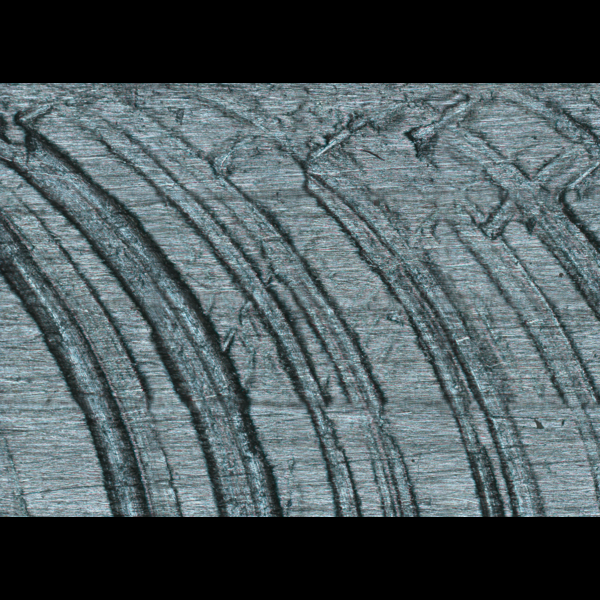d: (4, 83, 600, 511)
